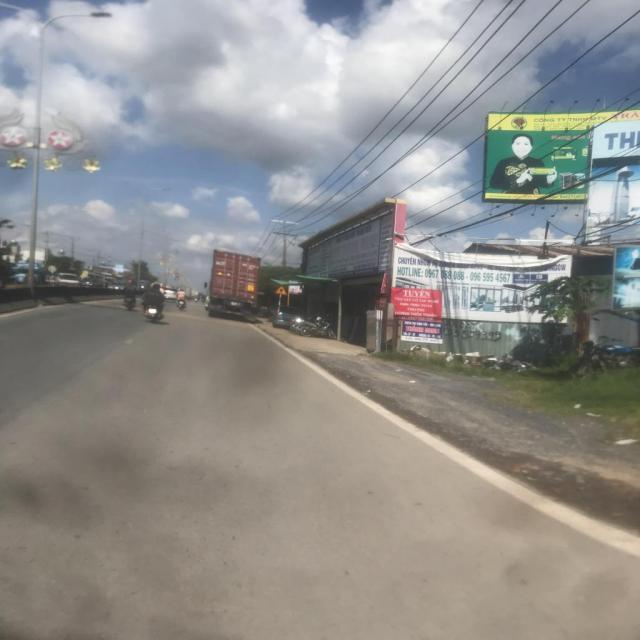giao_nhau_voi_duong_khong_uu_tien: (274, 284, 288, 296)
